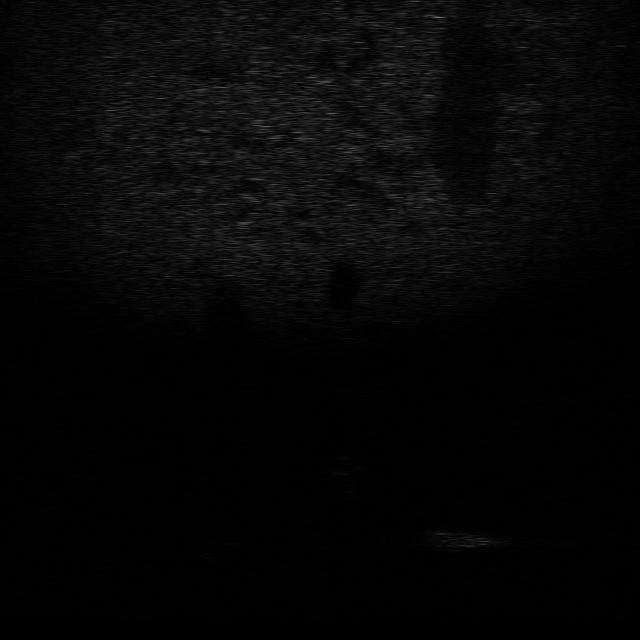ball: (323, 450, 362, 478)
metal bucket: (412, 522, 506, 554)
tyre: (196, 533, 245, 566)
